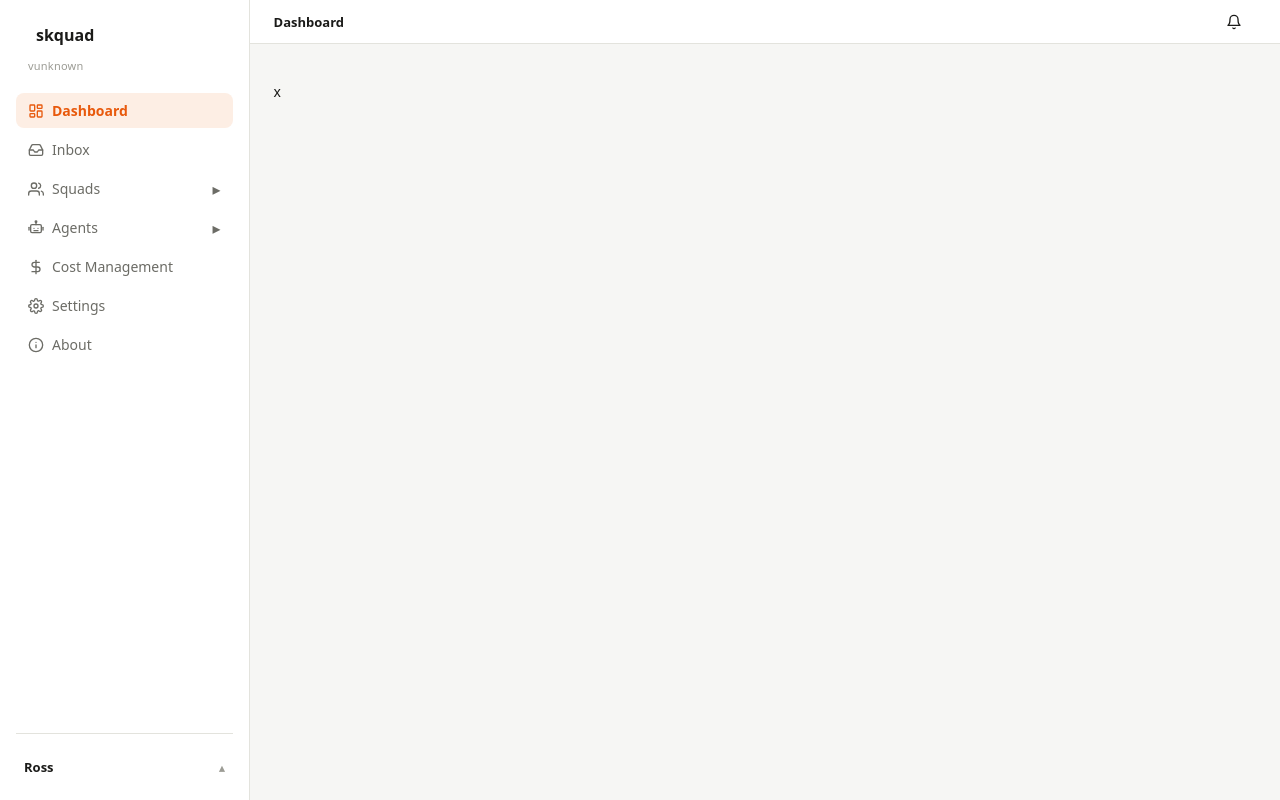
Test: AppShell primary rail › expands the Agents group and lists agents grouped by squad
Click the button with aria-label "Expand agents": {"x": 124, "y": 228} [16,210,233,245]
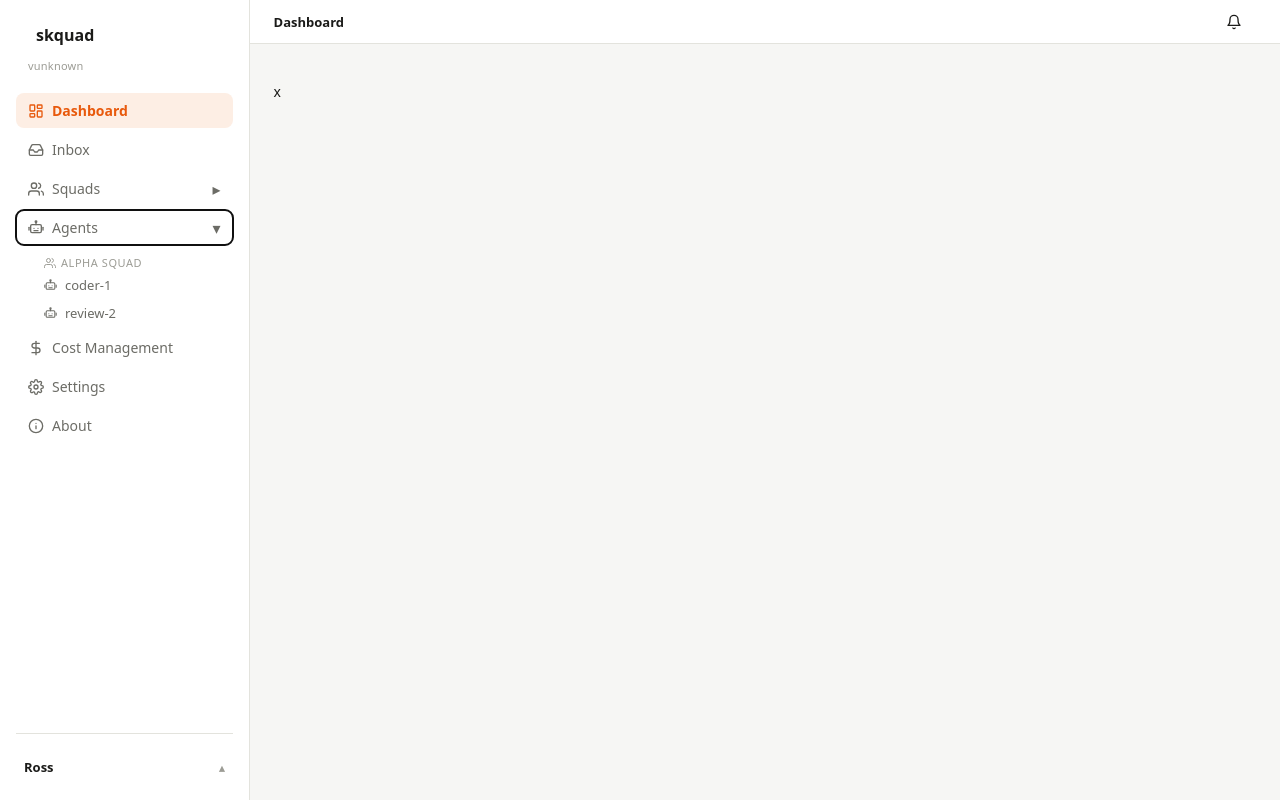
expect the number of elements with class "nav-subgroup" is 1: met, box [44,255,142,322]
expect the element with class "nav-subgroup-label" reads "Alpha Squad": met, box [61,255,142,270]
expect the link "coder-1" is shown: met, box [44,276,111,294]
